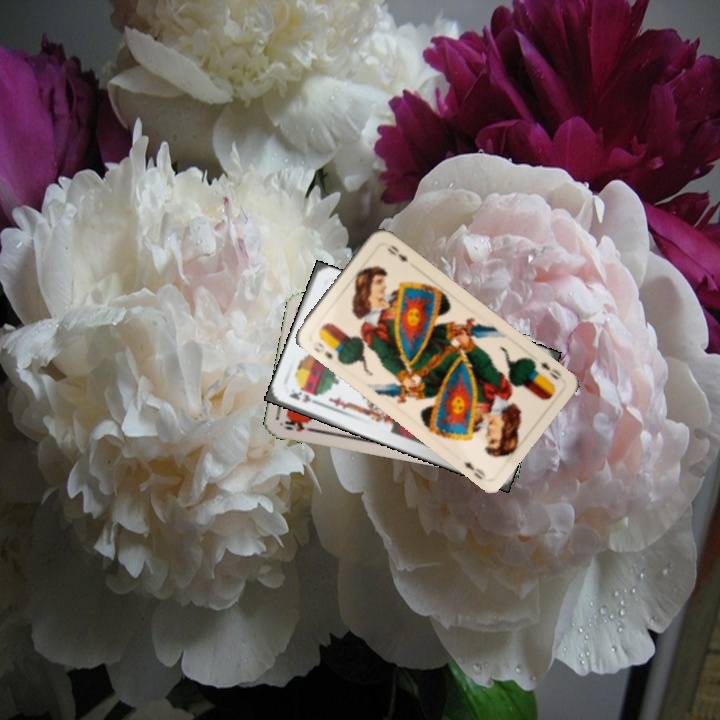EO: (309, 337, 336, 362), (536, 358, 564, 382)
HO: (280, 416, 319, 435)
SK: (285, 387, 323, 408)
